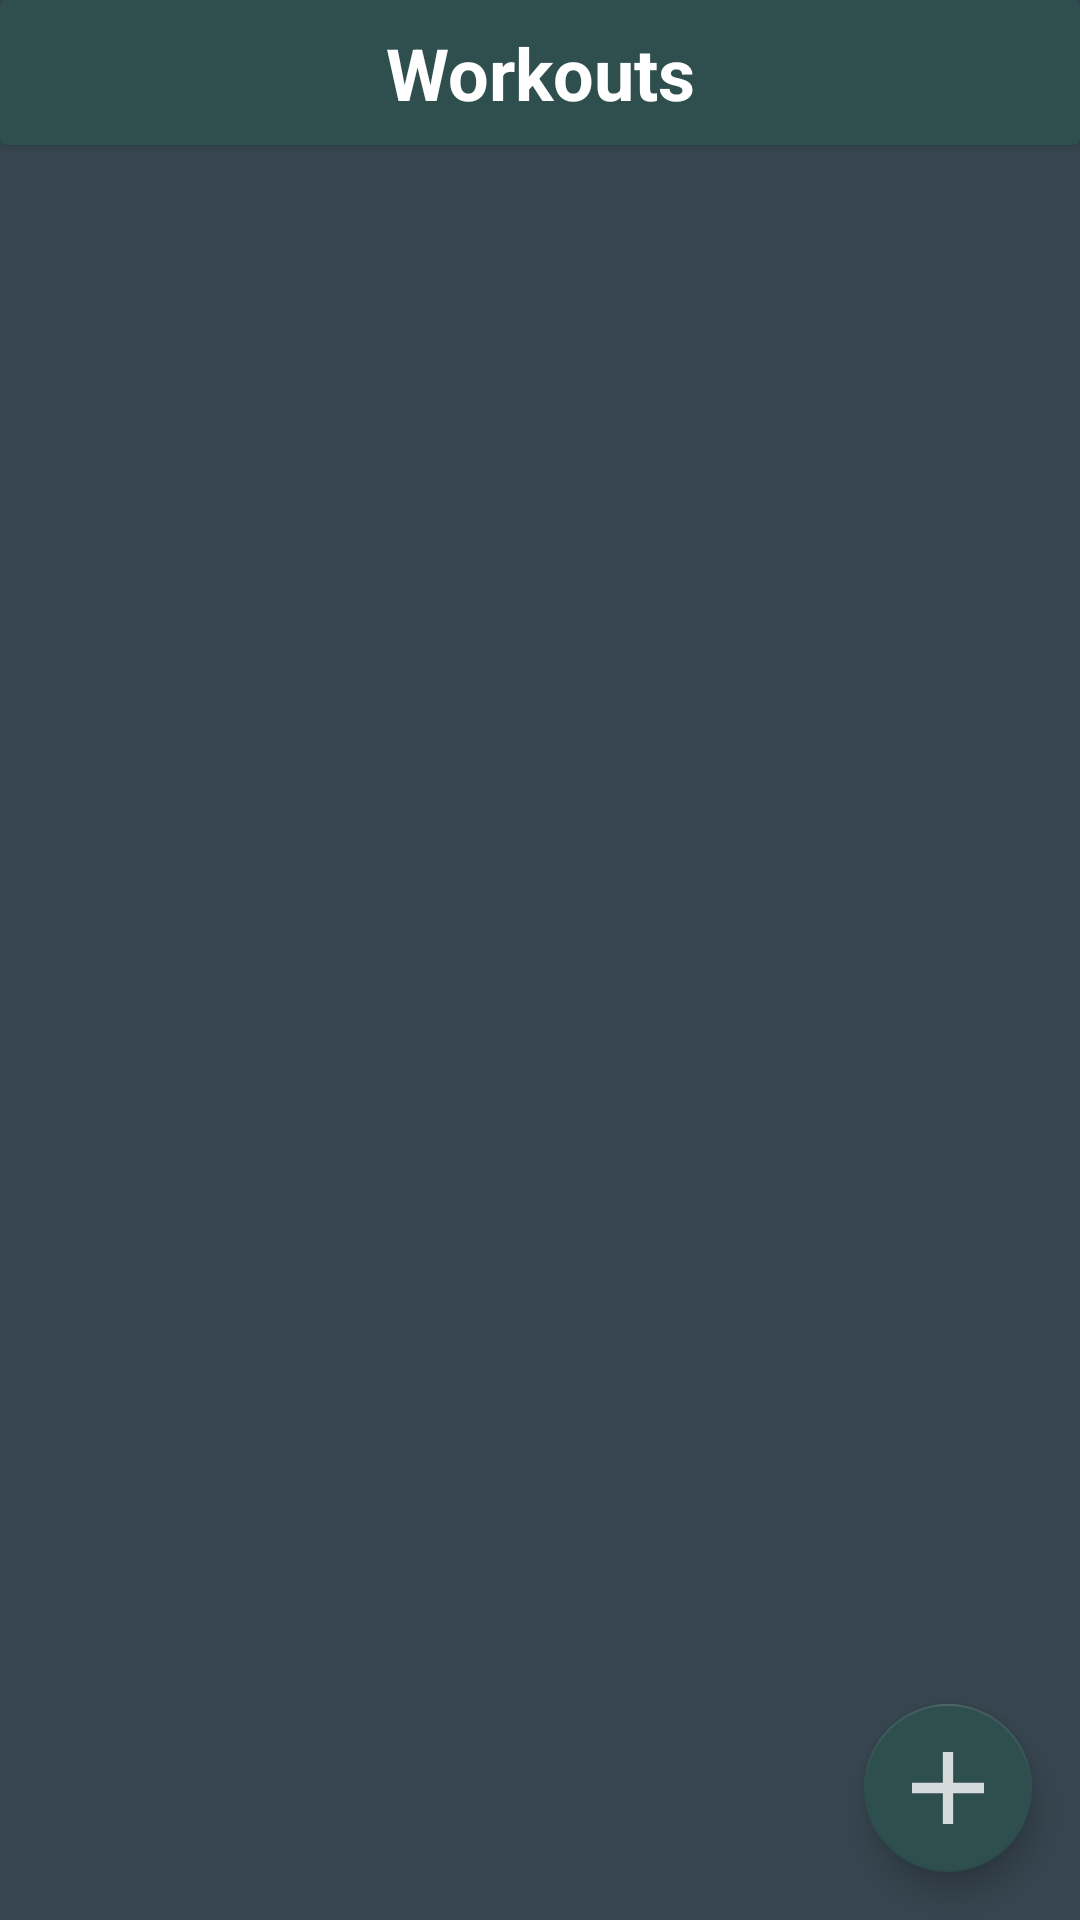

Where to tap for icons on this 1080px x 1920px app screen, as (x,y):
add new exercise: (948,1788)
